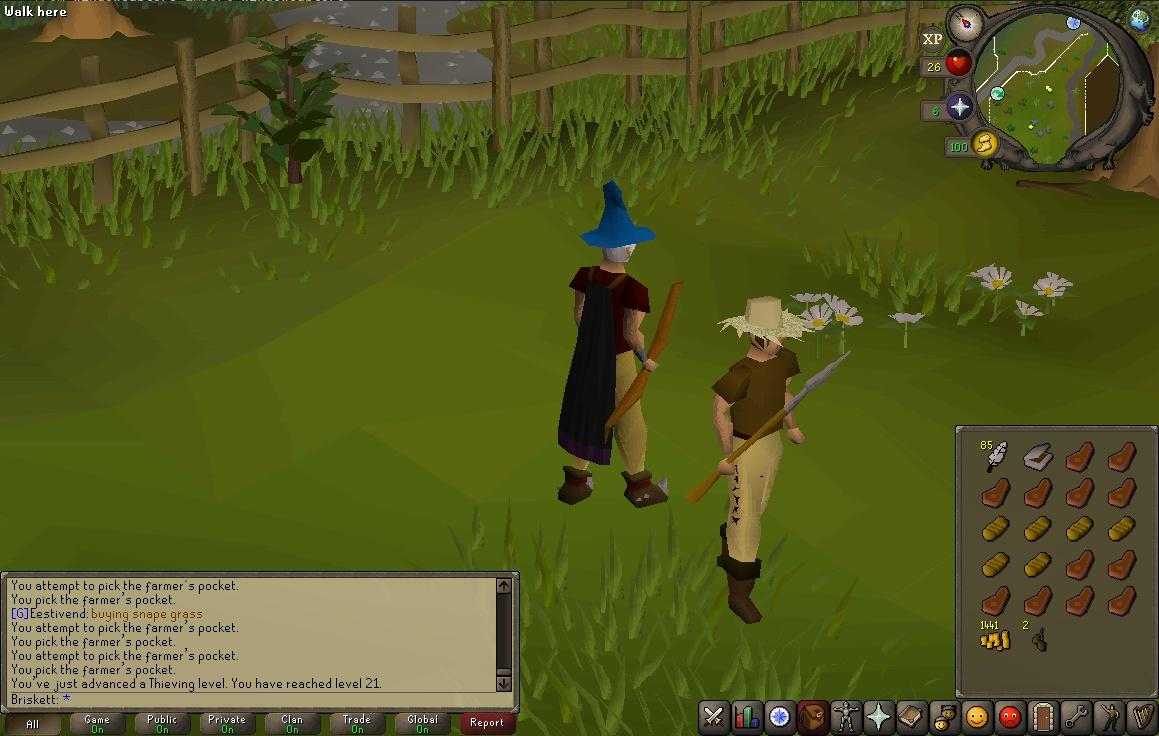Farmer: (710, 295, 813, 625)
